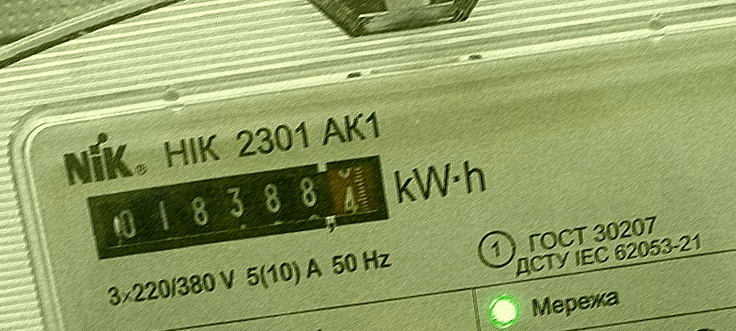0: (114, 204, 138, 242)
1: (151, 194, 173, 233)
3: (223, 183, 247, 220)
4: (336, 181, 360, 216)
8: (185, 191, 211, 229), (294, 172, 319, 210), (259, 180, 283, 217)
screen: (75, 144, 402, 272)
